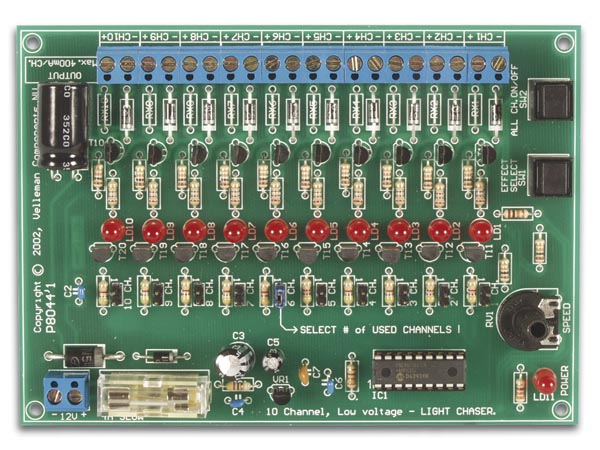Capacitor: (32, 78, 91, 177), (213, 341, 256, 381), (260, 347, 285, 373)
Diode: (63, 345, 105, 369), (118, 99, 135, 130), (147, 349, 178, 364), (164, 100, 178, 126), (448, 100, 461, 128), (243, 101, 257, 126), (489, 101, 503, 126), (203, 99, 216, 125), (326, 99, 338, 125), (367, 101, 380, 124), (287, 101, 299, 125), (408, 102, 419, 125)
LED: (140, 217, 168, 245), (181, 217, 209, 244), (531, 368, 558, 395), (426, 217, 453, 244), (222, 217, 249, 244), (99, 217, 126, 244), (263, 218, 291, 244), (345, 218, 372, 244), (386, 218, 413, 243), (305, 218, 331, 243), (468, 219, 494, 243)
Resistor: (532, 235, 548, 267), (222, 378, 256, 393), (179, 277, 194, 307), (472, 179, 487, 208), (220, 277, 235, 306), (138, 277, 152, 308), (257, 161, 271, 191), (433, 180, 447, 210), (393, 179, 407, 208), (383, 277, 397, 306), (352, 178, 365, 209), (513, 373, 526, 404), (147, 178, 160, 208), (270, 179, 283, 209), (339, 159, 352, 189), (465, 277, 478, 307), (342, 276, 355, 306), (301, 277, 314, 307), (259, 276, 272, 306), (217, 162, 231, 189), (229, 179, 242, 208), (311, 179, 324, 208), (380, 160, 393, 189), (461, 162, 474, 191), (98, 277, 110, 308), (346, 362, 358, 393), (91, 161, 104, 189), (176, 161, 189, 189), (421, 162, 434, 190), (423, 278, 437, 304), (133, 162, 146, 189), (498, 256, 511, 283), (501, 208, 532, 219), (189, 179, 201, 206), (300, 162, 311, 191), (107, 179, 118, 207)
